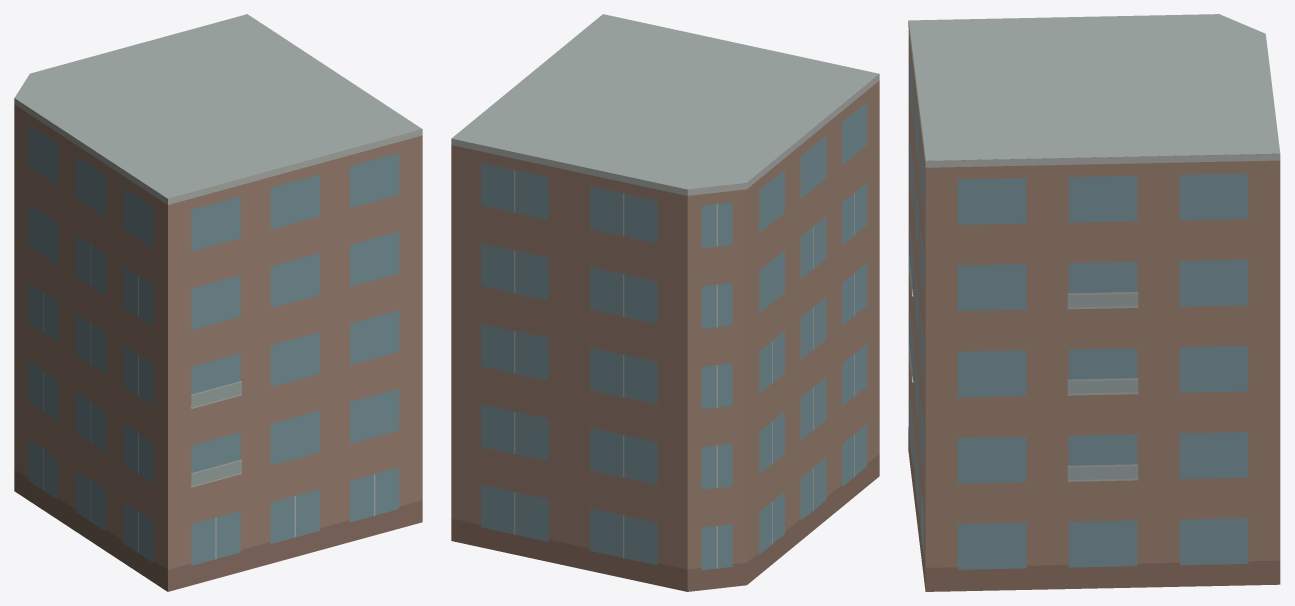
Rendered from survey-upis-32551450.glb.
The picture shows the model from 3 angles, left to right: view 1: azimuth 30°, elevation 25°; view 2: azimuth 150°, elevation 25°; view 3: azimuth 270°, elevation 25°; orthographic projection. The views are drawn at different scales.
Visible parts, largest first — view 1: survey-upis-32551450.tmp; view 2: survey-upis-32551450.tmp; view 3: survey-upis-32551450.tmp.
Boxes of the visible parts, <box> form: survey-upis-32551450.tmp: <box>14,14,422,591</box>; survey-upis-32551450.tmp: <box>451,14,879,591</box>; survey-upis-32551450.tmp: <box>908,14,1280,591</box>.
Size of the model in its own units: 11.11 by 15.2 by 11.89.
